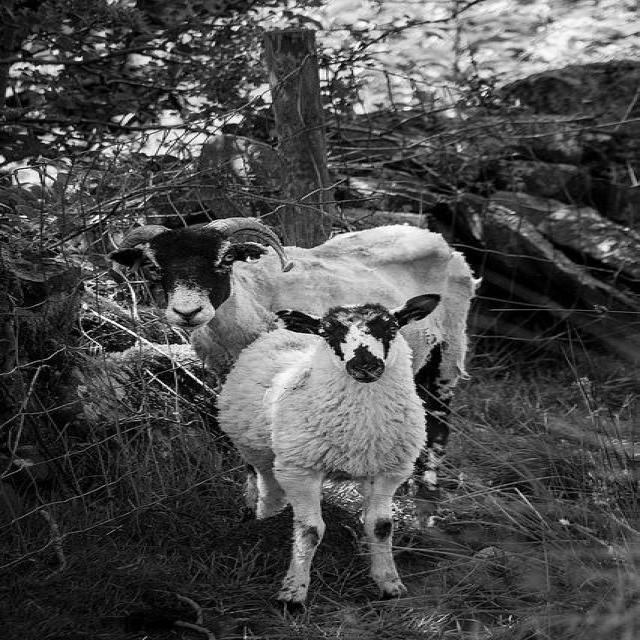Sheep: (117, 213, 470, 492), (216, 293, 442, 614)
